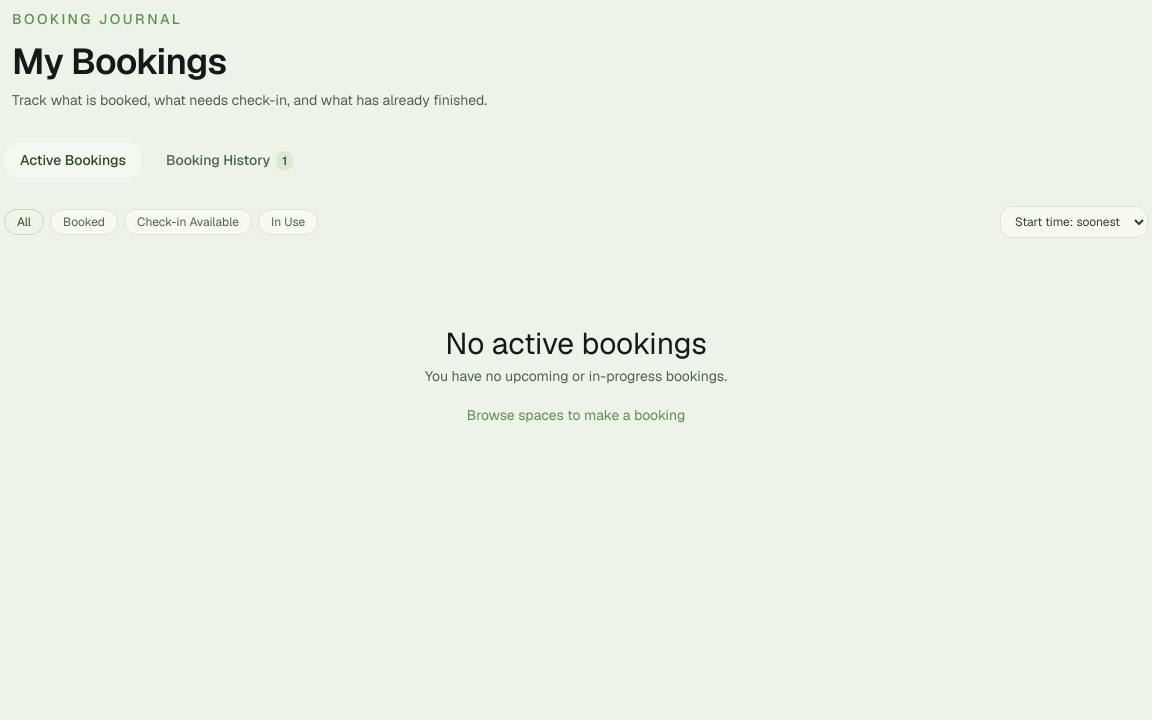
BookingsPage › history modal has no Check In or Cancel action buttons
This screenshot has width=1152, height=720.
Click the button "Booking History1": click(230, 160) [150,142,309,178]
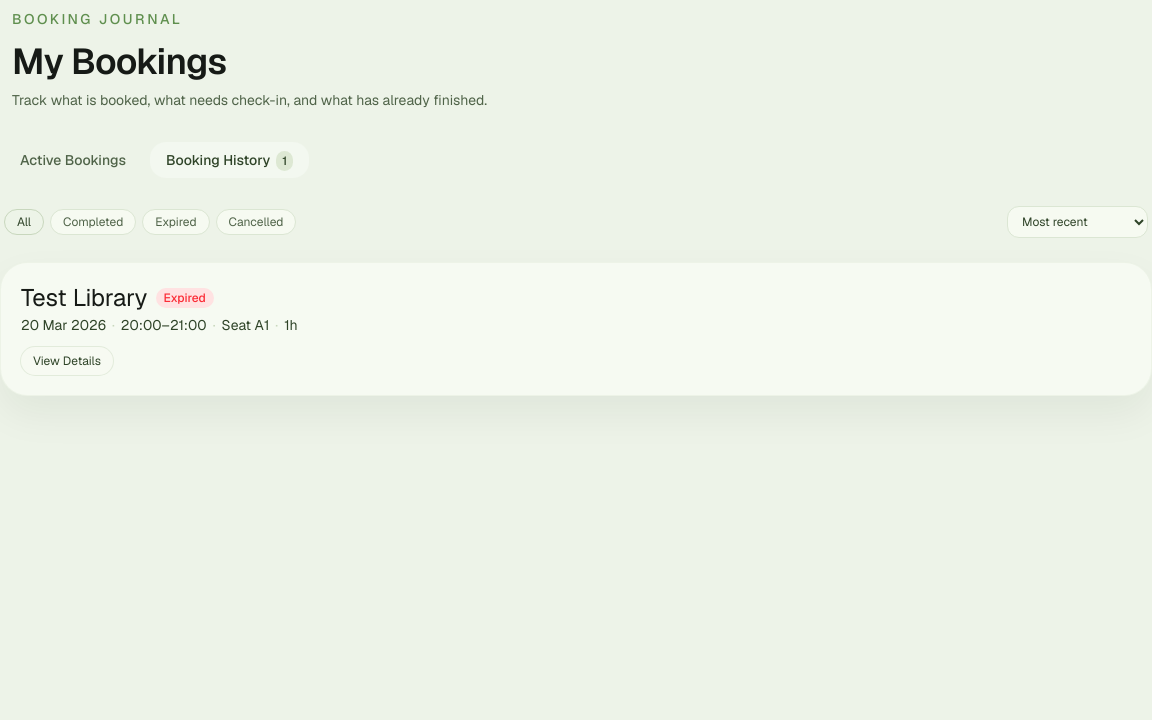
Expected: the button "View Details" is shown
Click the button "View Details": click(67, 361) [21,347,113,375]
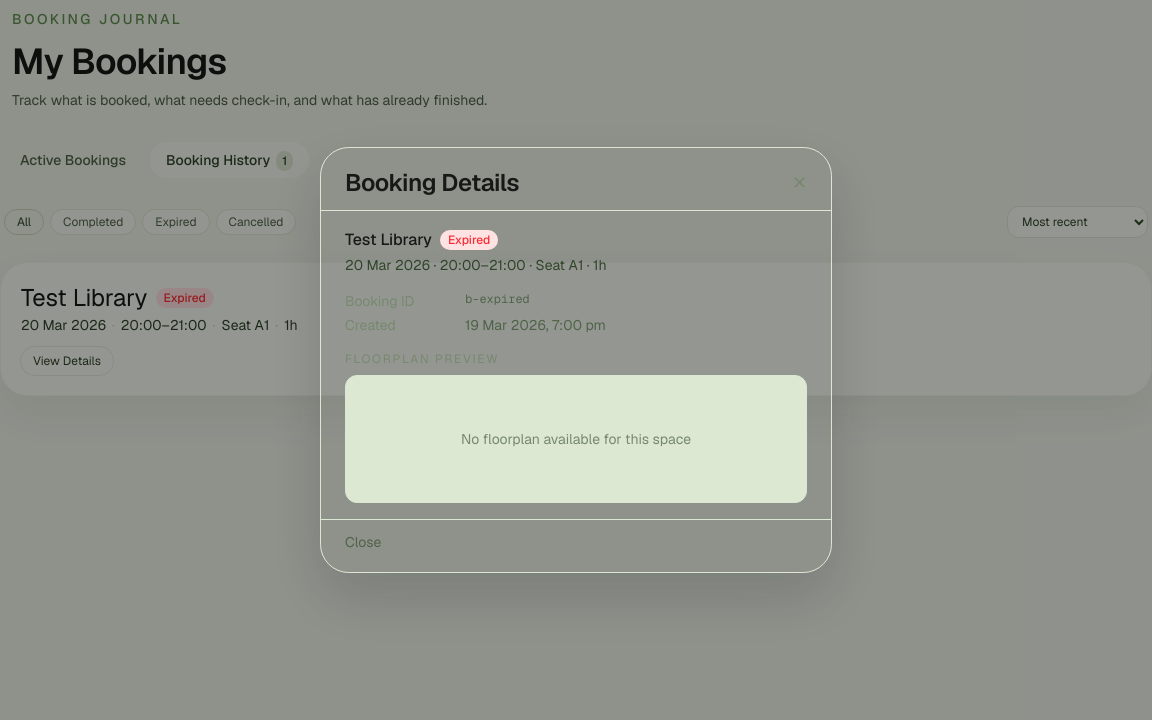
Expected: the heading "Booking Details" is shown, [345,168,519,198]
